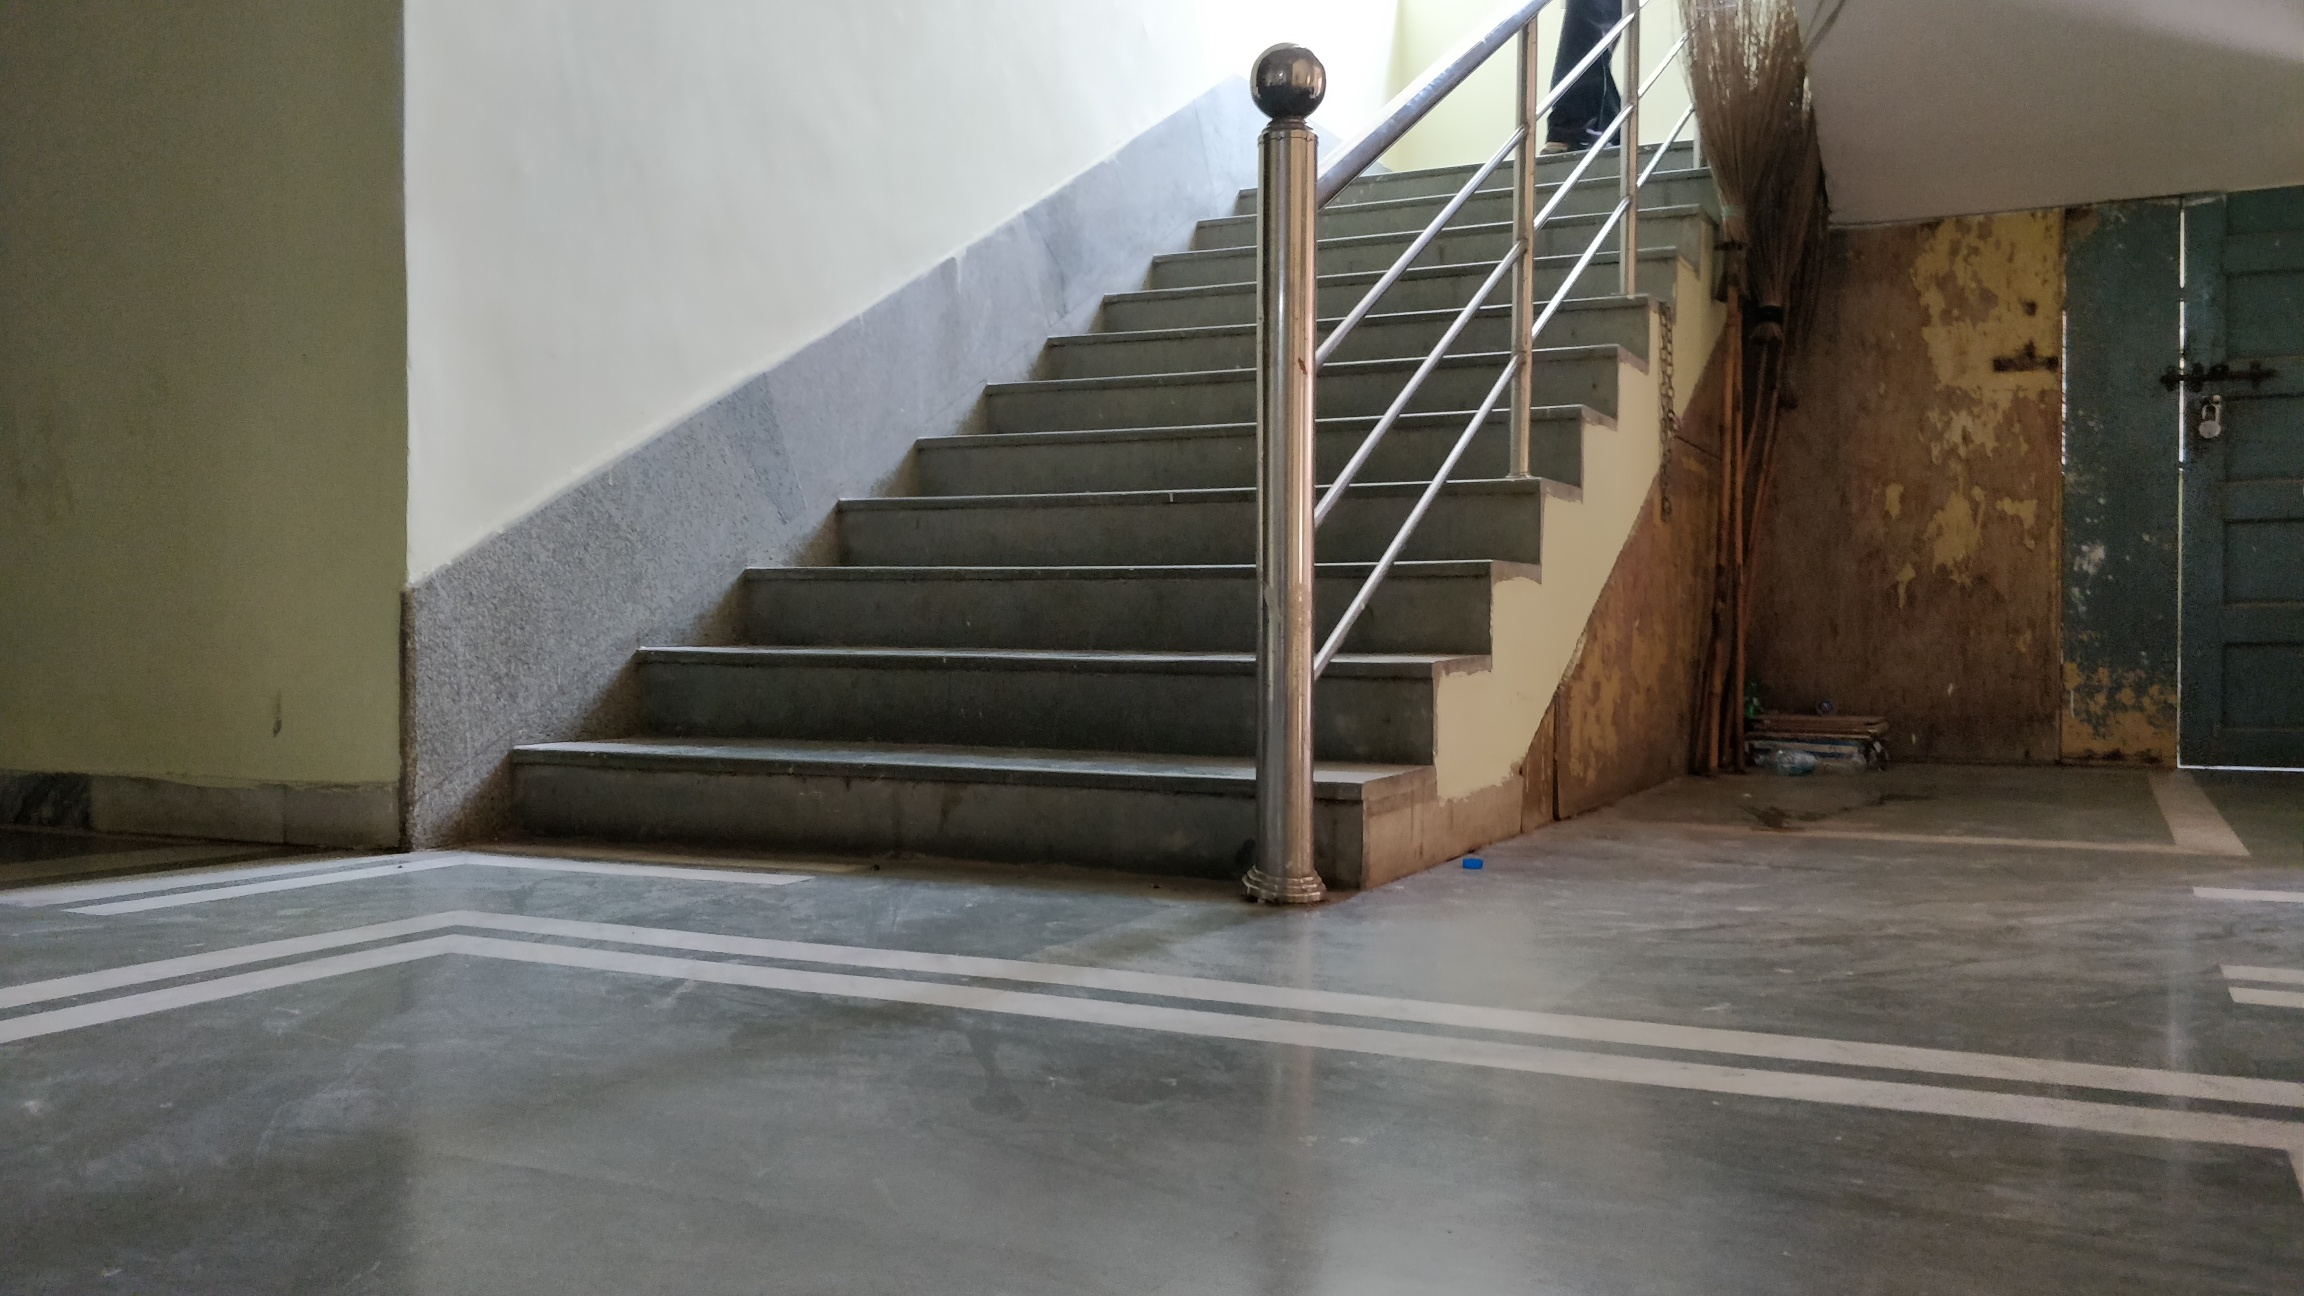stairs_up: (476, 146, 1717, 858)
